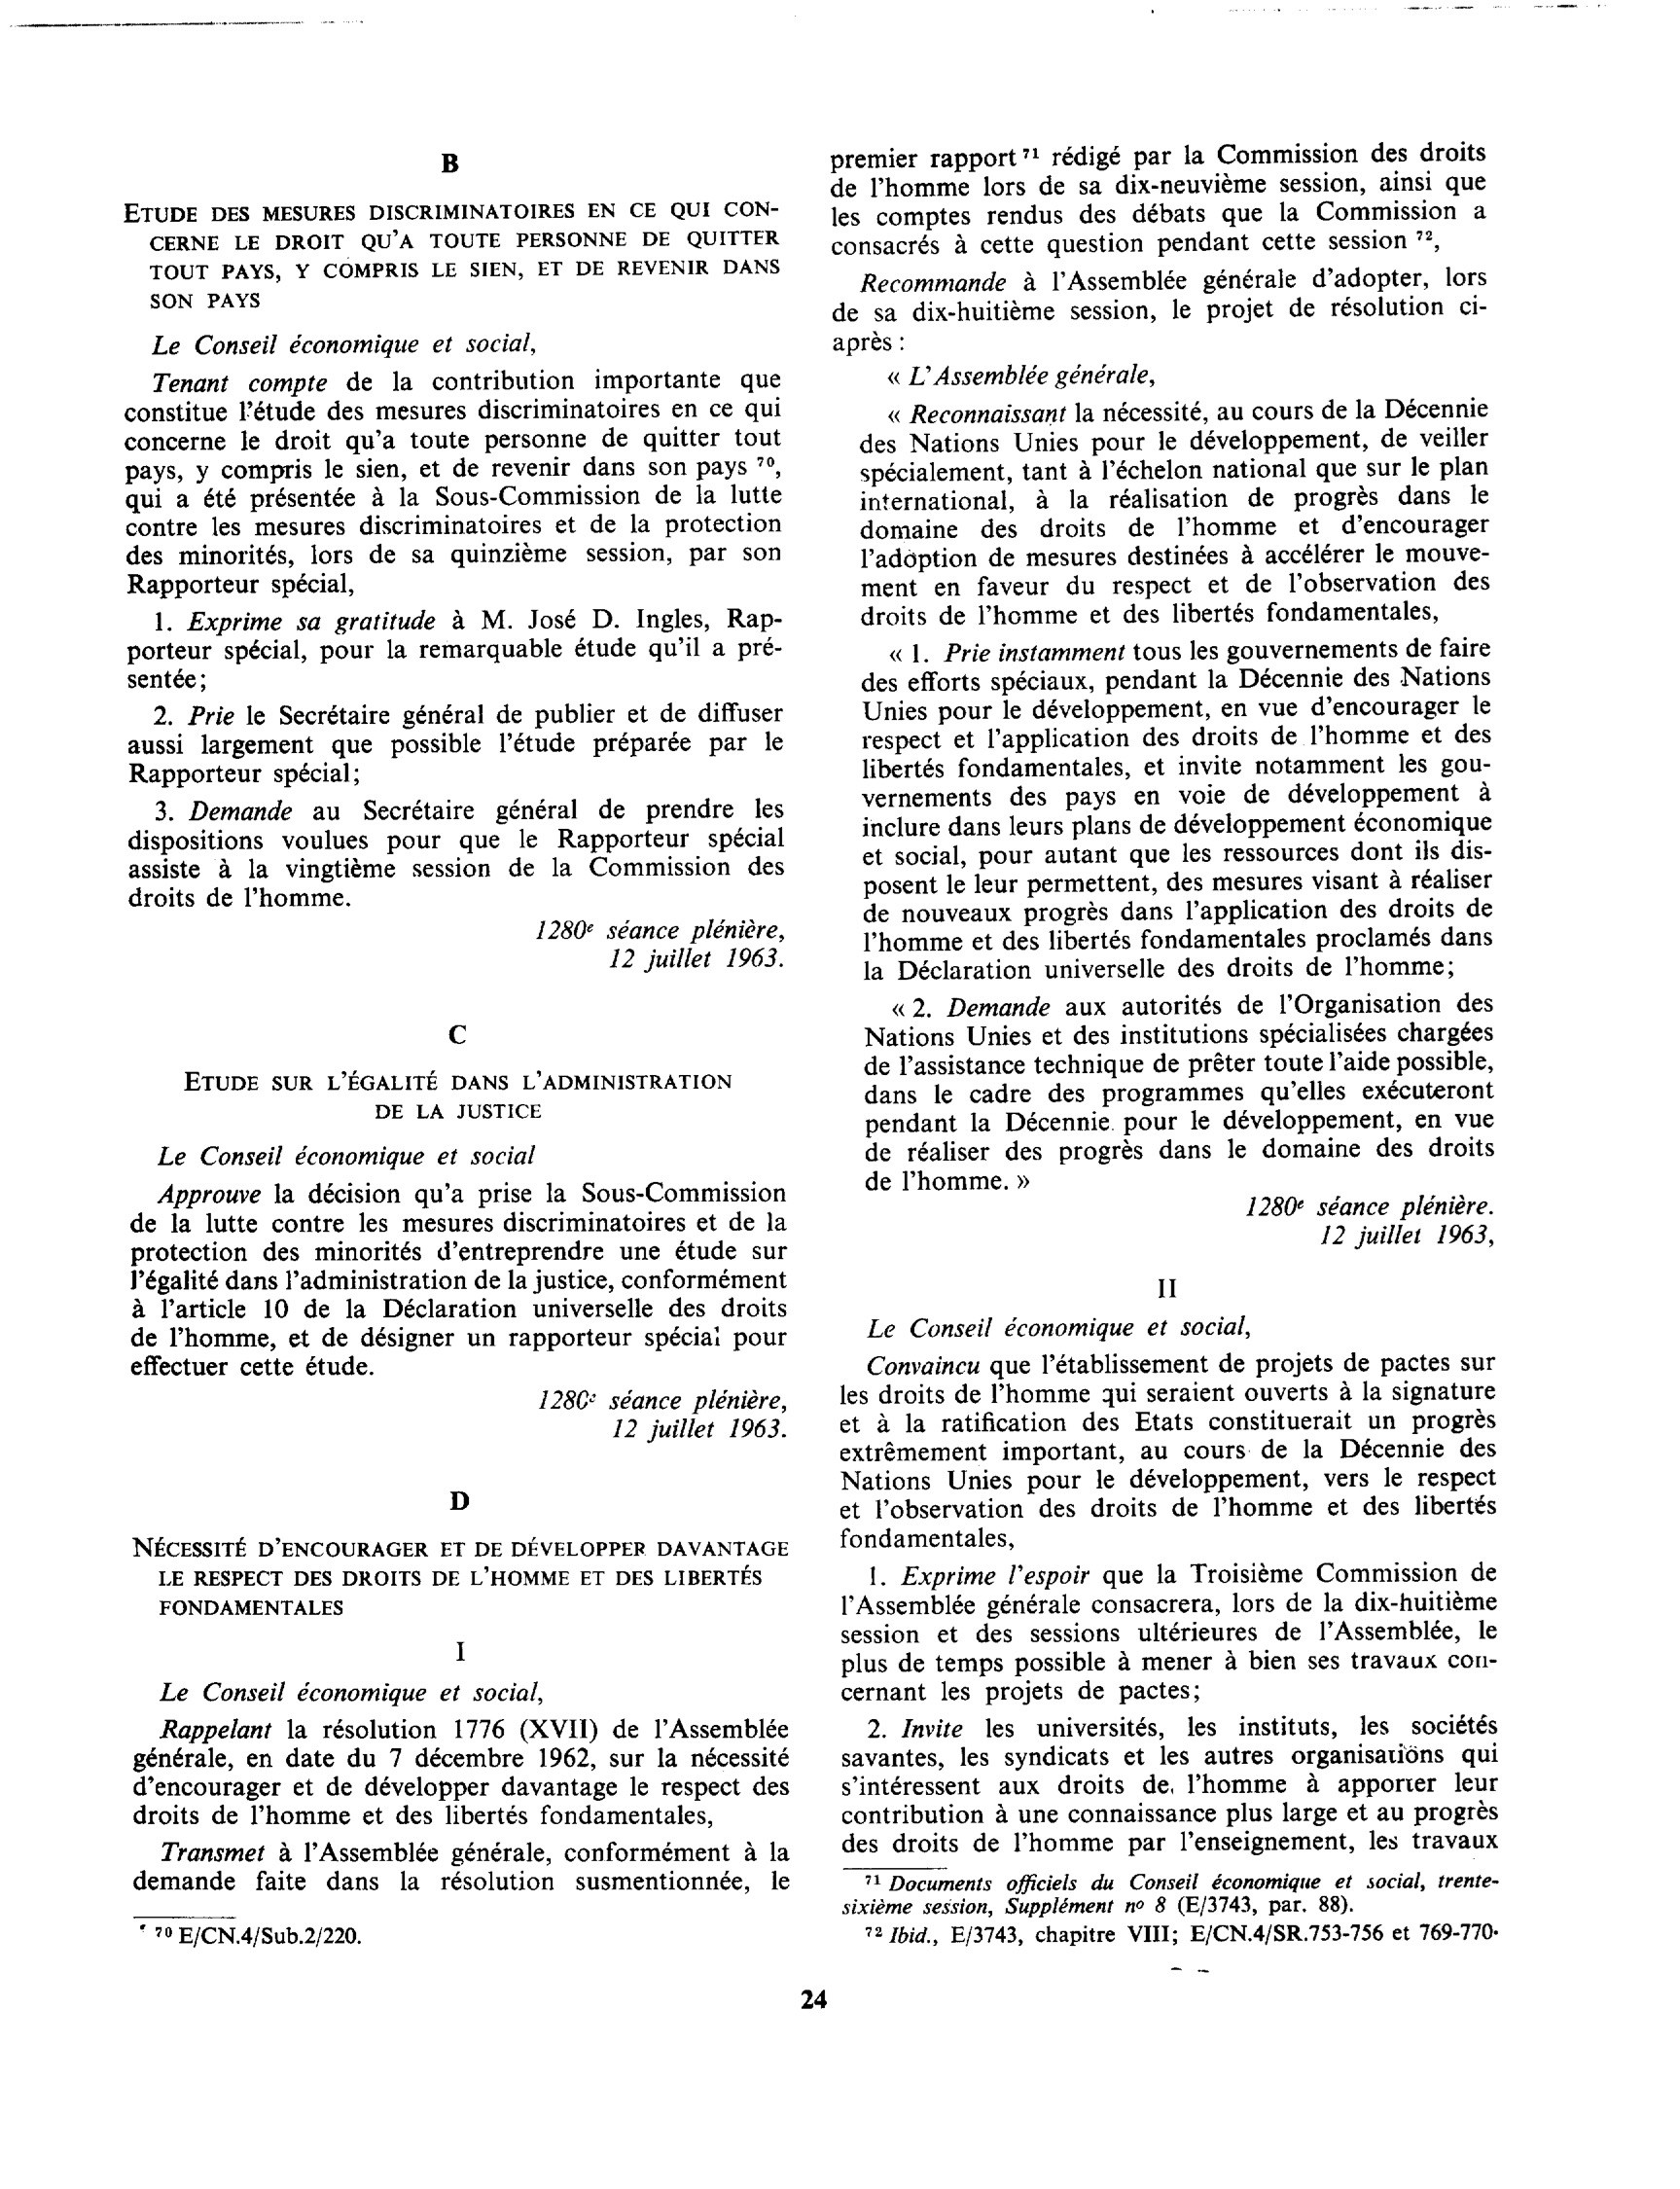MainZone-Continued: (822, 138, 1494, 261)
MainZone-Date: (596, 946, 796, 980), (603, 1412, 798, 1444), (1306, 1225, 1497, 1253)
MainZone-Head: (113, 195, 788, 313), (125, 1529, 791, 1624), (170, 1062, 743, 1125), (1152, 1271, 1184, 1304), (436, 146, 465, 181), (443, 1020, 475, 1049), (447, 1485, 475, 1515), (451, 1637, 473, 1668)
MainZone-ListItem: (853, 633, 1501, 987), (858, 989, 1500, 1199), (836, 1711, 1508, 1860), (835, 1557, 1506, 1705), (120, 792, 794, 915), (121, 697, 792, 790), (119, 603, 791, 695)
MainZone-P: (118, 366, 789, 602), (850, 397, 1497, 630), (125, 1175, 794, 1382), (836, 1348, 1503, 1553), (125, 1712, 794, 1830), (822, 261, 1494, 357), (125, 1836, 794, 1900), (141, 325, 548, 362), (848, 1310, 1265, 1346), (124, 1139, 543, 1172), (137, 1676, 553, 1707), (855, 357, 1166, 395)
MainZone-Signature: (518, 913, 795, 952), (1234, 1190, 1509, 1223), (529, 1383, 791, 1413)
MarginTextZone-Notes: (836, 1869, 1507, 1920), (836, 1919, 1508, 1963), (127, 1918, 375, 1956)
TitlePageZone: (794, 1982, 834, 2020)
